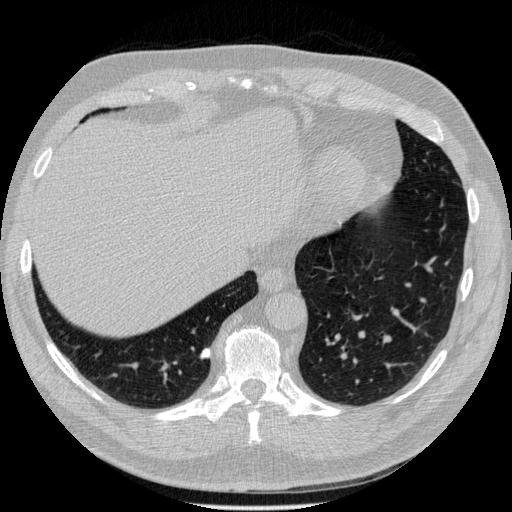nodule: (198, 346, 213, 361)
